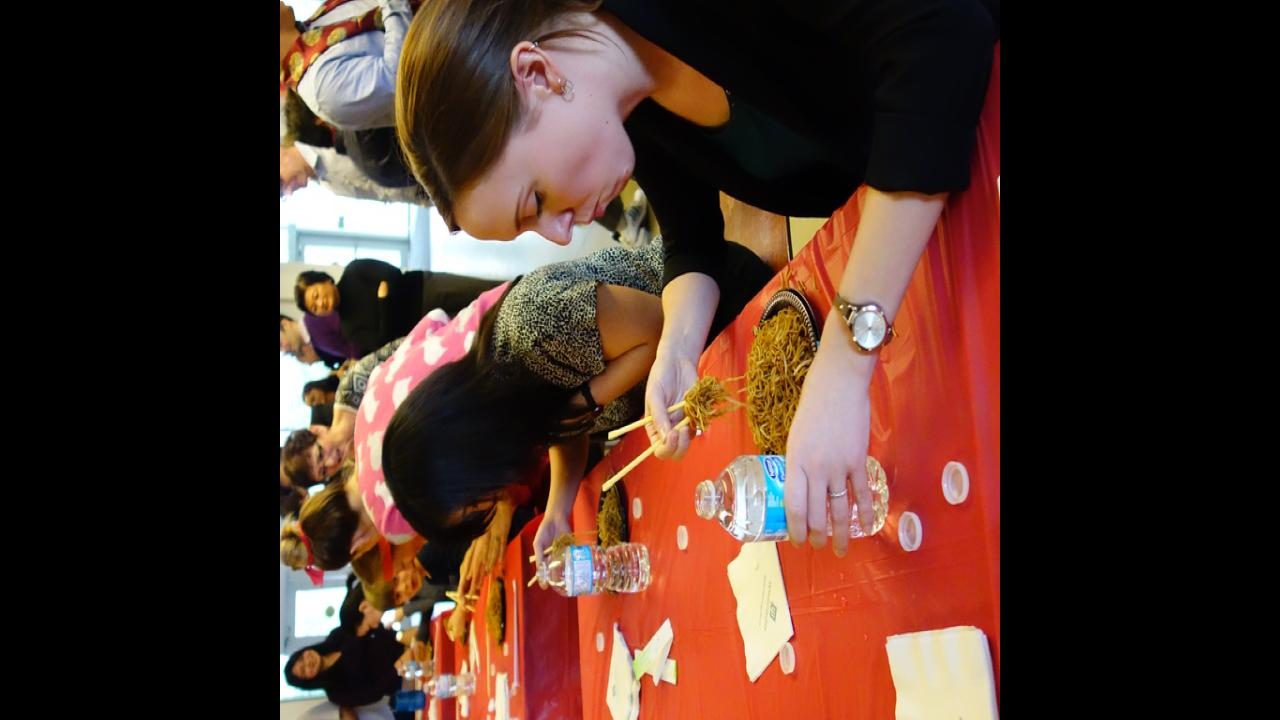chopstick: (600, 390, 719, 493), (527, 544, 554, 586), (446, 588, 480, 610)
